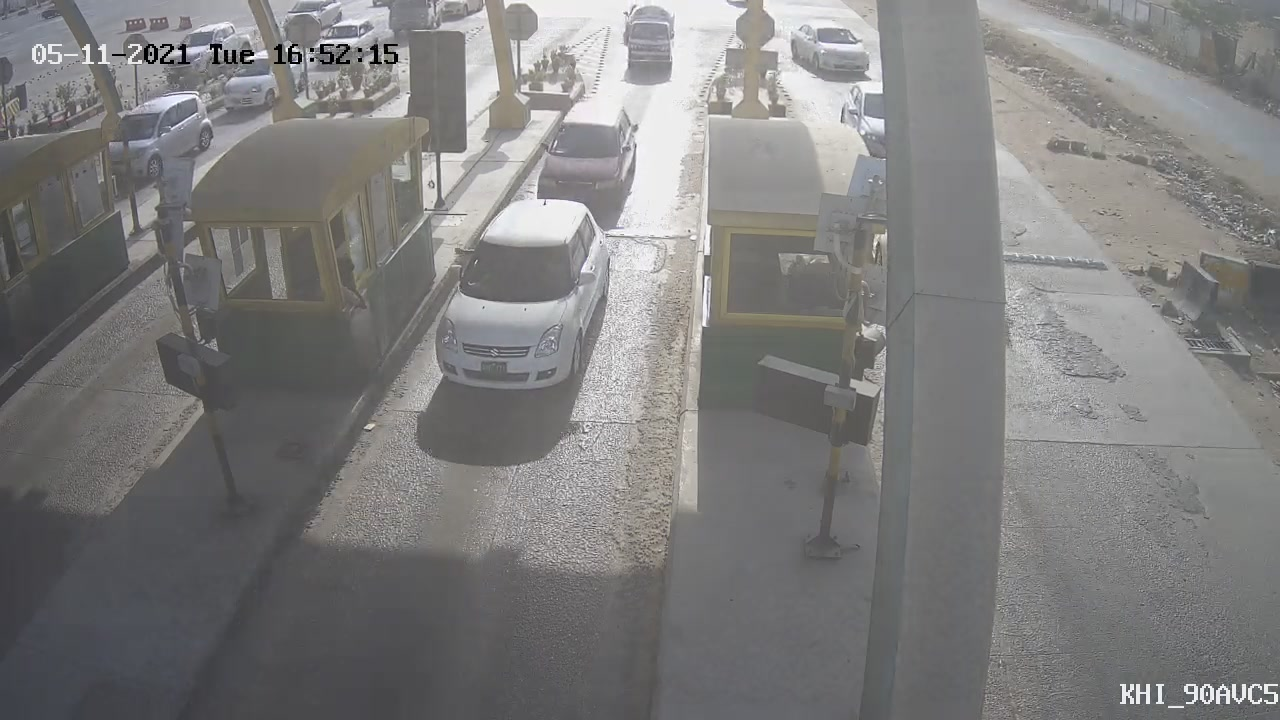F1: (414, 178, 631, 412), (524, 85, 655, 229)
